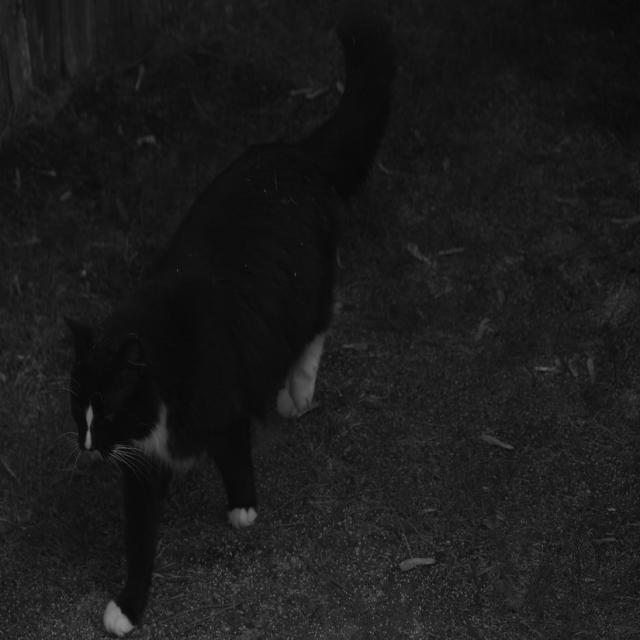Cat: (48, 8, 400, 621)
